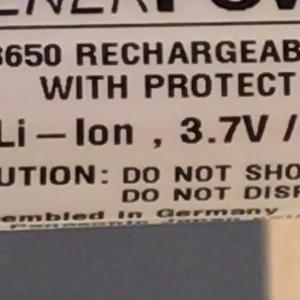3.7V: (170, 104, 279, 154)
